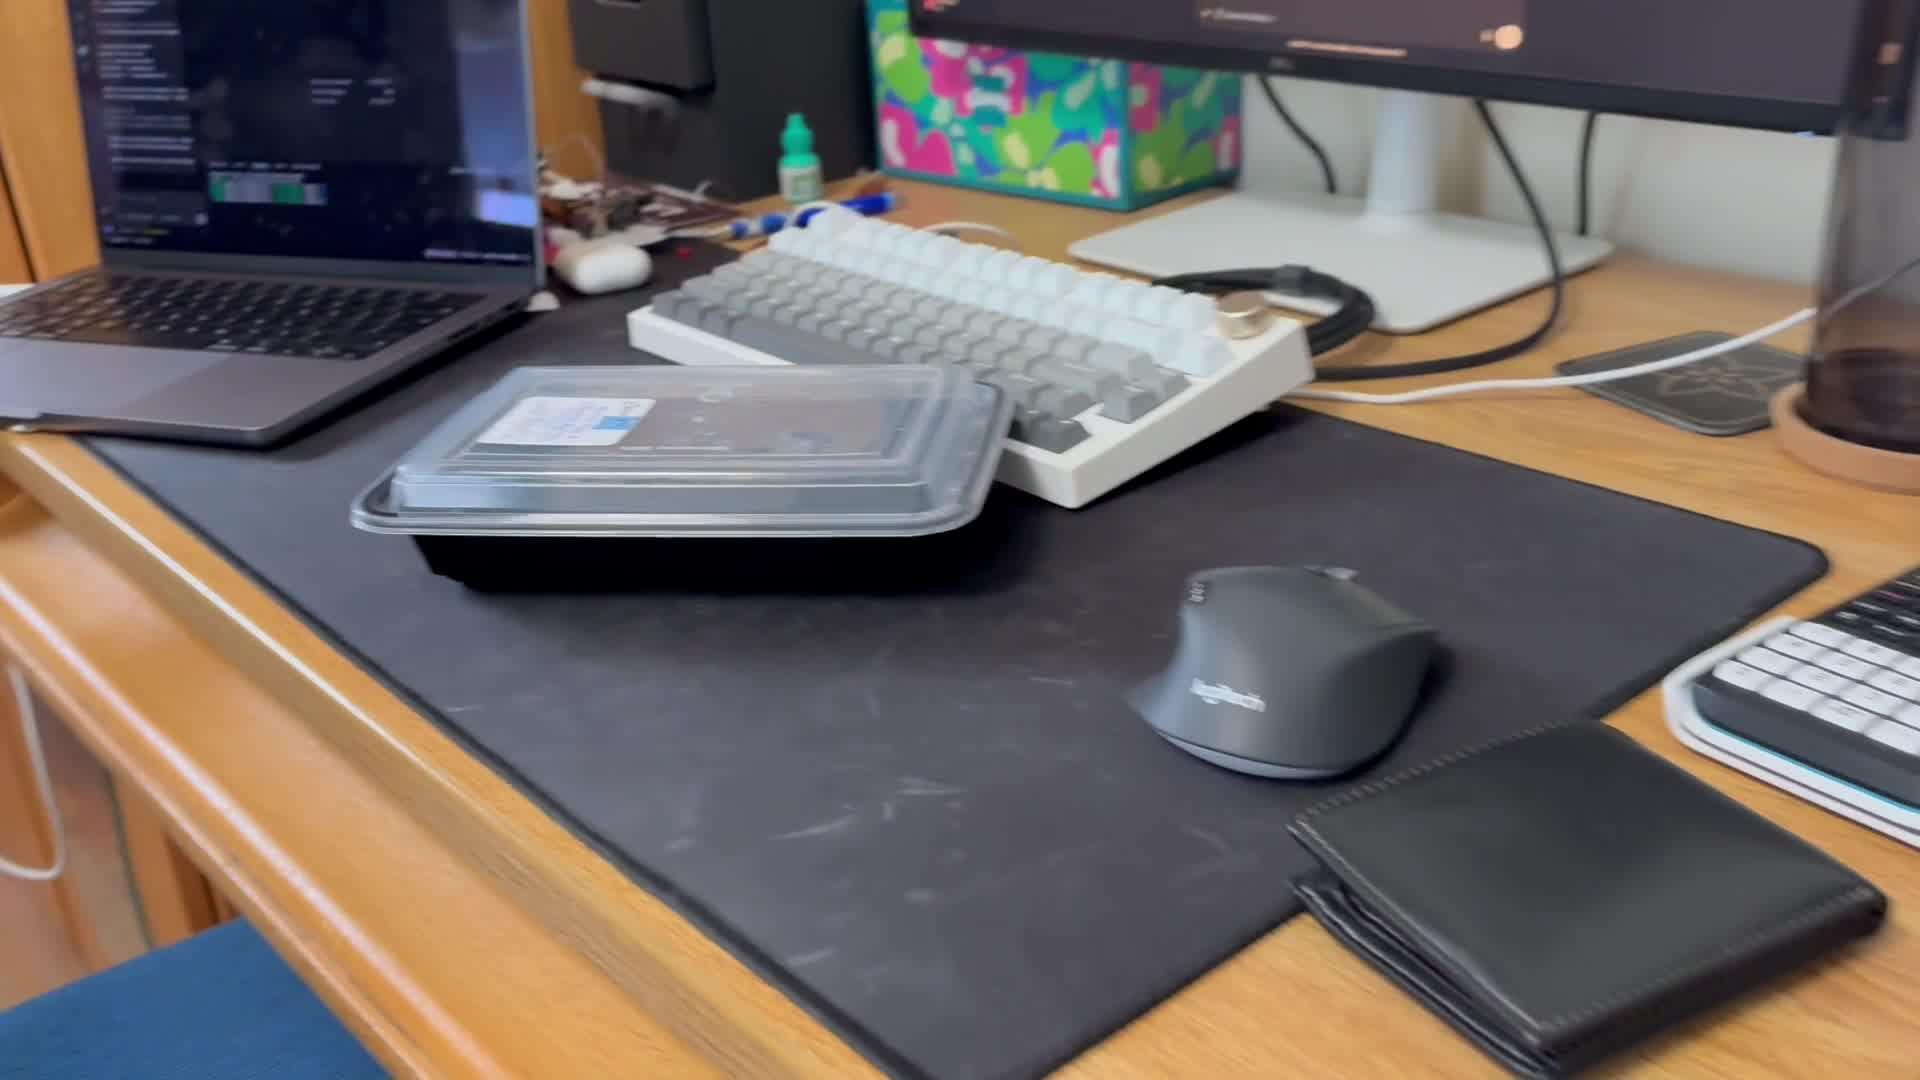lp_cup_lids: (343, 352, 1021, 596)
